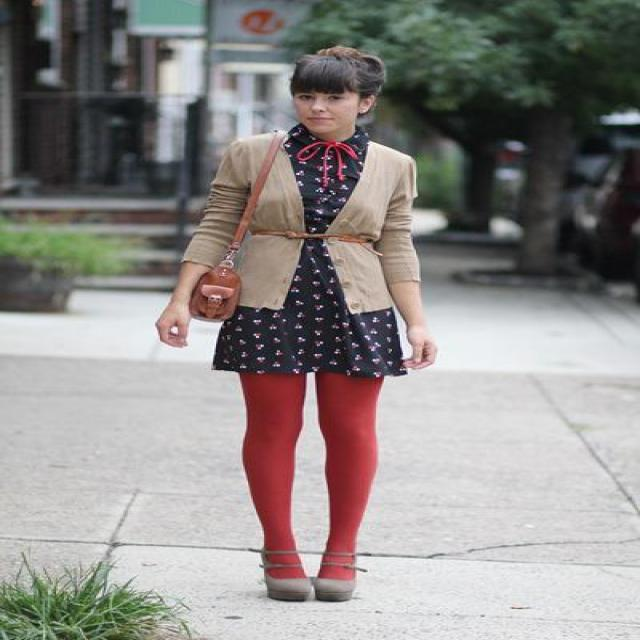bag: (188, 260, 242, 321)
dress: (213, 123, 406, 380)
jacket: (181, 141, 440, 332)
shoe: (266, 574, 356, 601)
